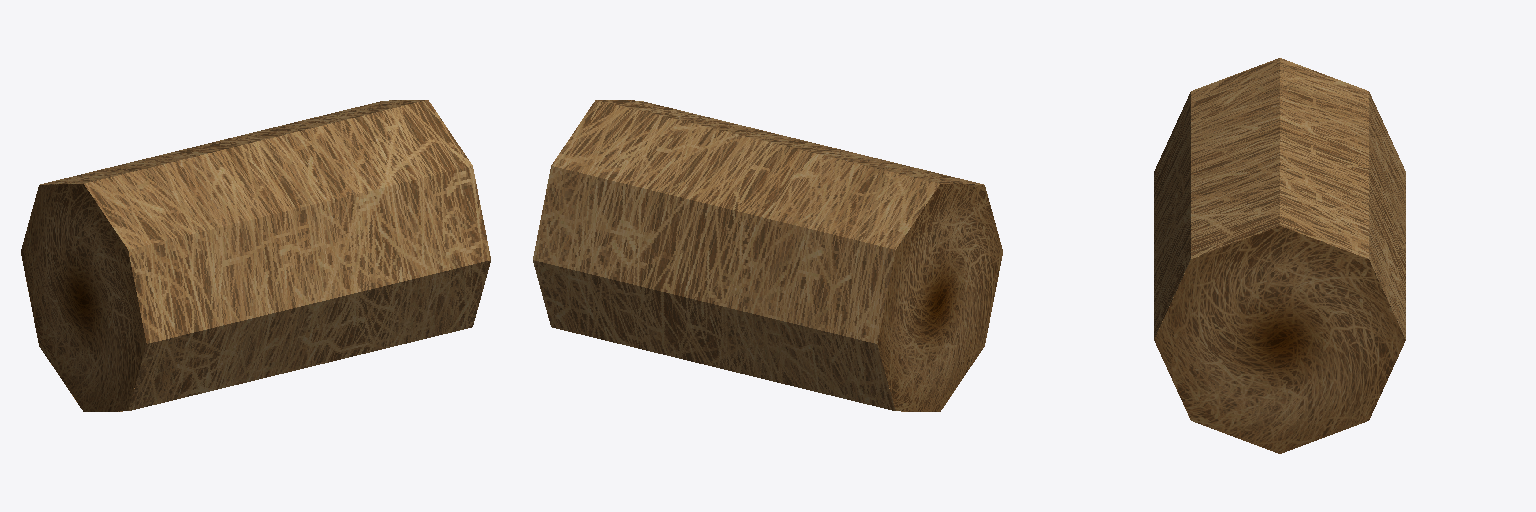
3 views of the same model, side by side, from view 1: azimuth 30°, elevation 25°; view 2: azimuth 150°, elevation 25°; view 3: azimuth 270°, elevation 25° (orthographic).
Visible parts, largest first — view 1: pCylinder1; view 2: pCylinder1; view 3: pCylinder1.
Boxes of the visible parts, x1,y1,x2,y2 form: pCylinder1: [21, 100, 490, 411]; pCylinder1: [533, 100, 1002, 411]; pCylinder1: [1154, 58, 1405, 453].
Size of the model in its own units: 2.9 by 1.84 by 1.84.
Materials: 1 (1 with a texture image).